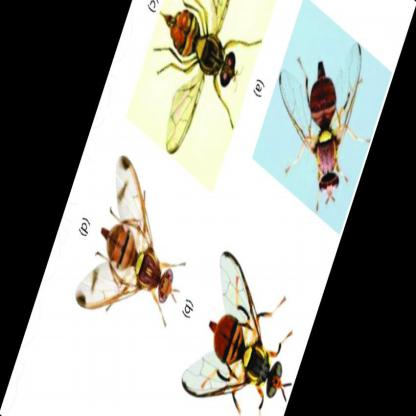fruit fly: (75, 154, 188, 310), (180, 252, 284, 400), (281, 43, 361, 197)
